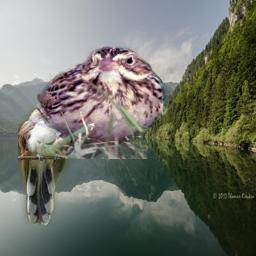Cuckoo: (18, 106, 75, 226)
Sparrow: (37, 46, 167, 159)
